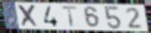2: (125, 6, 144, 29)
4: (43, 5, 60, 29)
5: (103, 5, 122, 30)
6: (83, 6, 101, 29)
T: (61, 5, 79, 28)
X: (17, 4, 41, 29)
